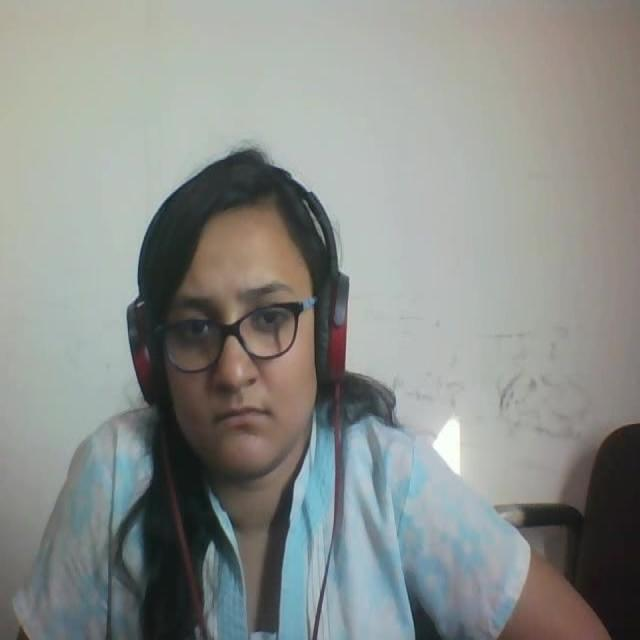Engaged: (97, 144, 380, 497)
